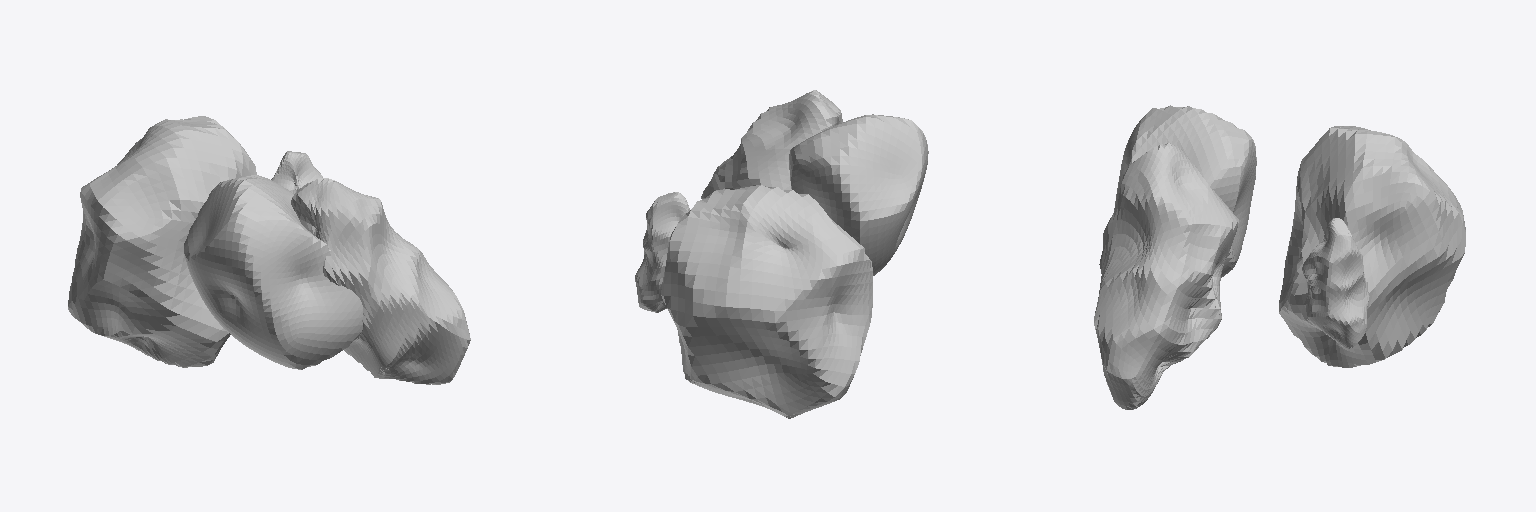
Rendered from rocks_placed.obj.
3 renders of one model, left to right at view 1: azimuth 30°, elevation 25°; view 2: azimuth 150°, elevation 25°; view 3: azimuth 270°, elevation 25°, orthographic.
Parts seen in each view (by area): view 1: rock03_Cube.006, rock01_Cube, rock02.001_Cube.002, rock02_Cube.001; view 2: rock03_Cube.006, rock01_Cube, rock02.001_Cube.002, rock02_Cube.001; view 3: rock03_Cube.006, rock02.001_Cube.002, rock01_Cube, rock02_Cube.001.
Boxes of the visible parts, x1=… form: rock03_Cube.006: x1=68, y1=116, x2=256, y2=367; rock01_Cube: x1=184, y1=175, x2=362, y2=369; rock02.001_Cube.002: x1=291, y1=178, x2=470, y2=384; rock02_Cube.001: x1=271, y1=151, x2=322, y2=193; rock03_Cube.006: x1=661, y1=185, x2=872, y2=418; rock01_Cube: x1=789, y1=114, x2=928, y2=275; rock02.001_Cube.002: x1=701, y1=90, x2=842, y2=198; rock02_Cube.001: x1=635, y1=192, x2=689, y2=312; rock03_Cube.006: x1=1279, y1=126, x2=1465, y2=367; rock02.001_Cube.002: x1=1094, y1=143, x2=1238, y2=409; rock01_Cube: x1=1114, y1=105, x2=1256, y2=277; rock02_Cube.001: x1=1302, y1=218, x2=1369, y2=348.
Size of the model in its own units: 58.49 by 50.15 by 69.96.